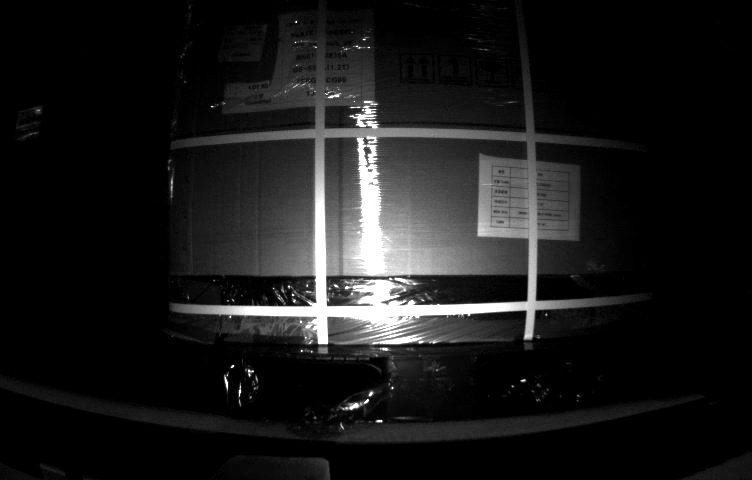True Barcode: (219, 26, 266, 62)
